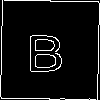B: (24, 25, 66, 72)
